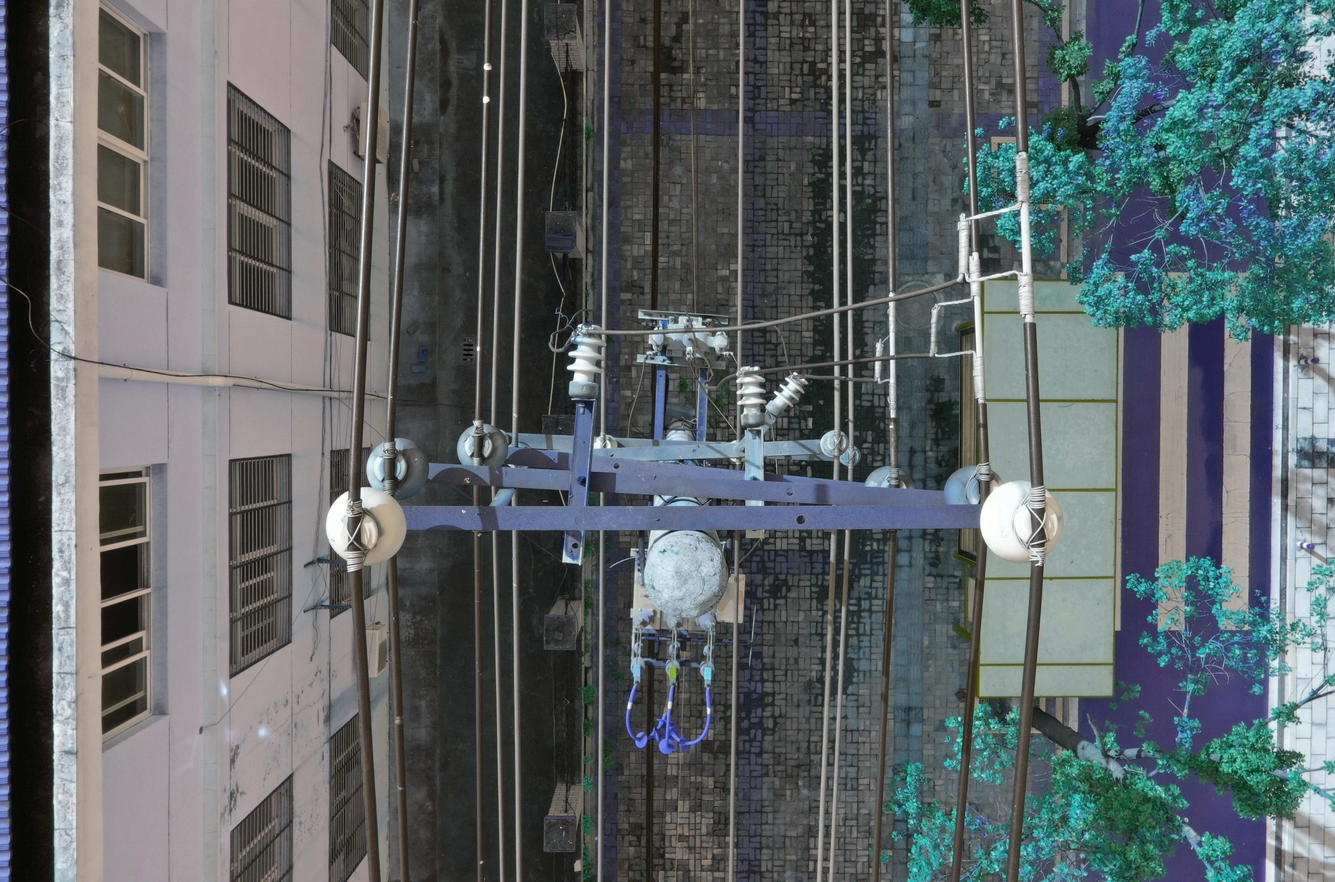severe_soiling_no_discharge_whole: (976, 476, 1065, 563), (364, 432, 432, 501), (938, 462, 1004, 505), (452, 419, 511, 466), (864, 461, 915, 490), (594, 434, 618, 449)
